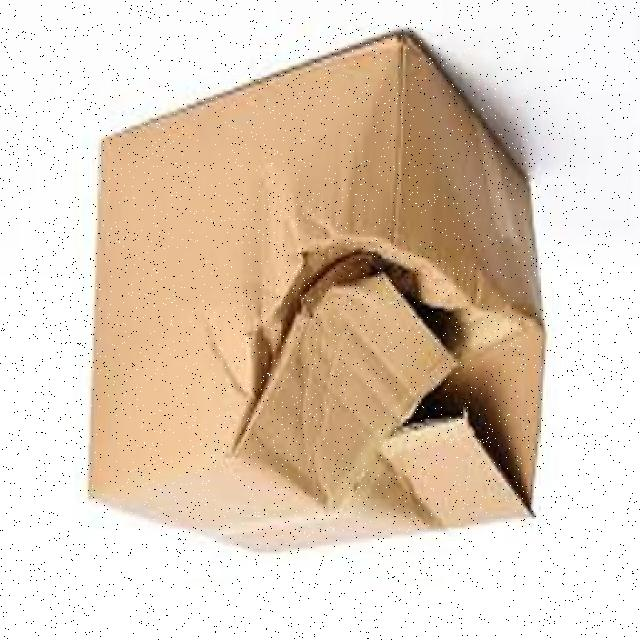defect: (78, 36, 550, 554)
